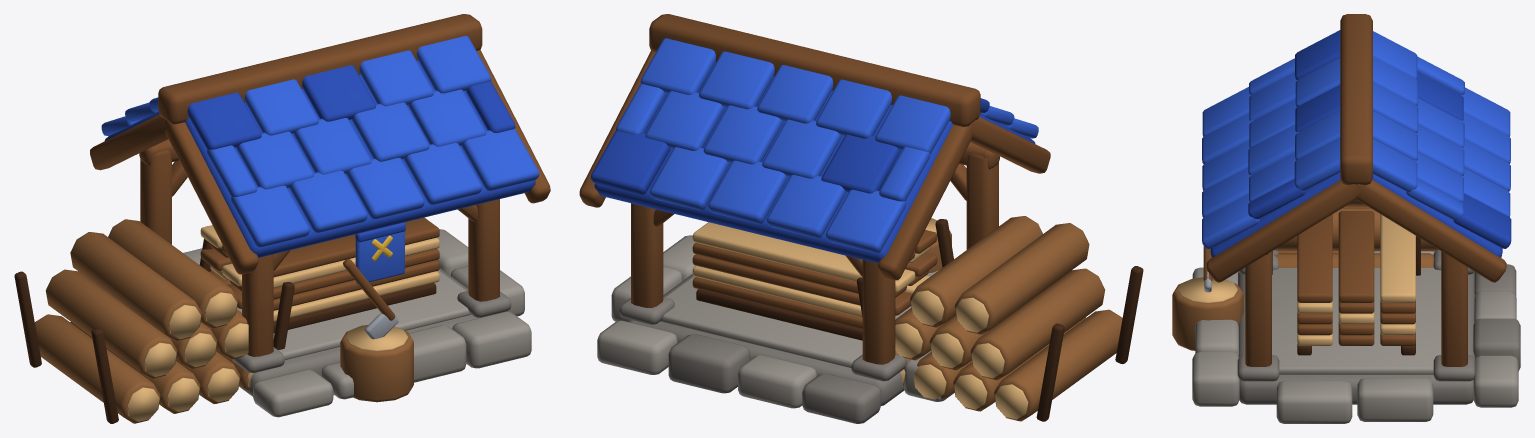
Rendered from Lumberyard.glb.
The picture shows the model from 3 angles, left to right: view 1: azimuth 30°, elevation 25°; view 2: azimuth 150°, elevation 25°; view 3: azimuth 270°, elevation 25°; orthographic projection. The views are drawn at different scales.
Visible parts, largest first — view 1: Lumberyard; view 2: Lumberyard; view 3: Lumberyard.
Boxes of the visible parts, x1,y1,x2,y2 form: Lumberyard: [14, 14, 550, 423]; Lumberyard: [579, 14, 1143, 423]; Lumberyard: [1172, 14, 1520, 423].
Size of the model in its own units: 3.3 by 1.96 by 2.34.
